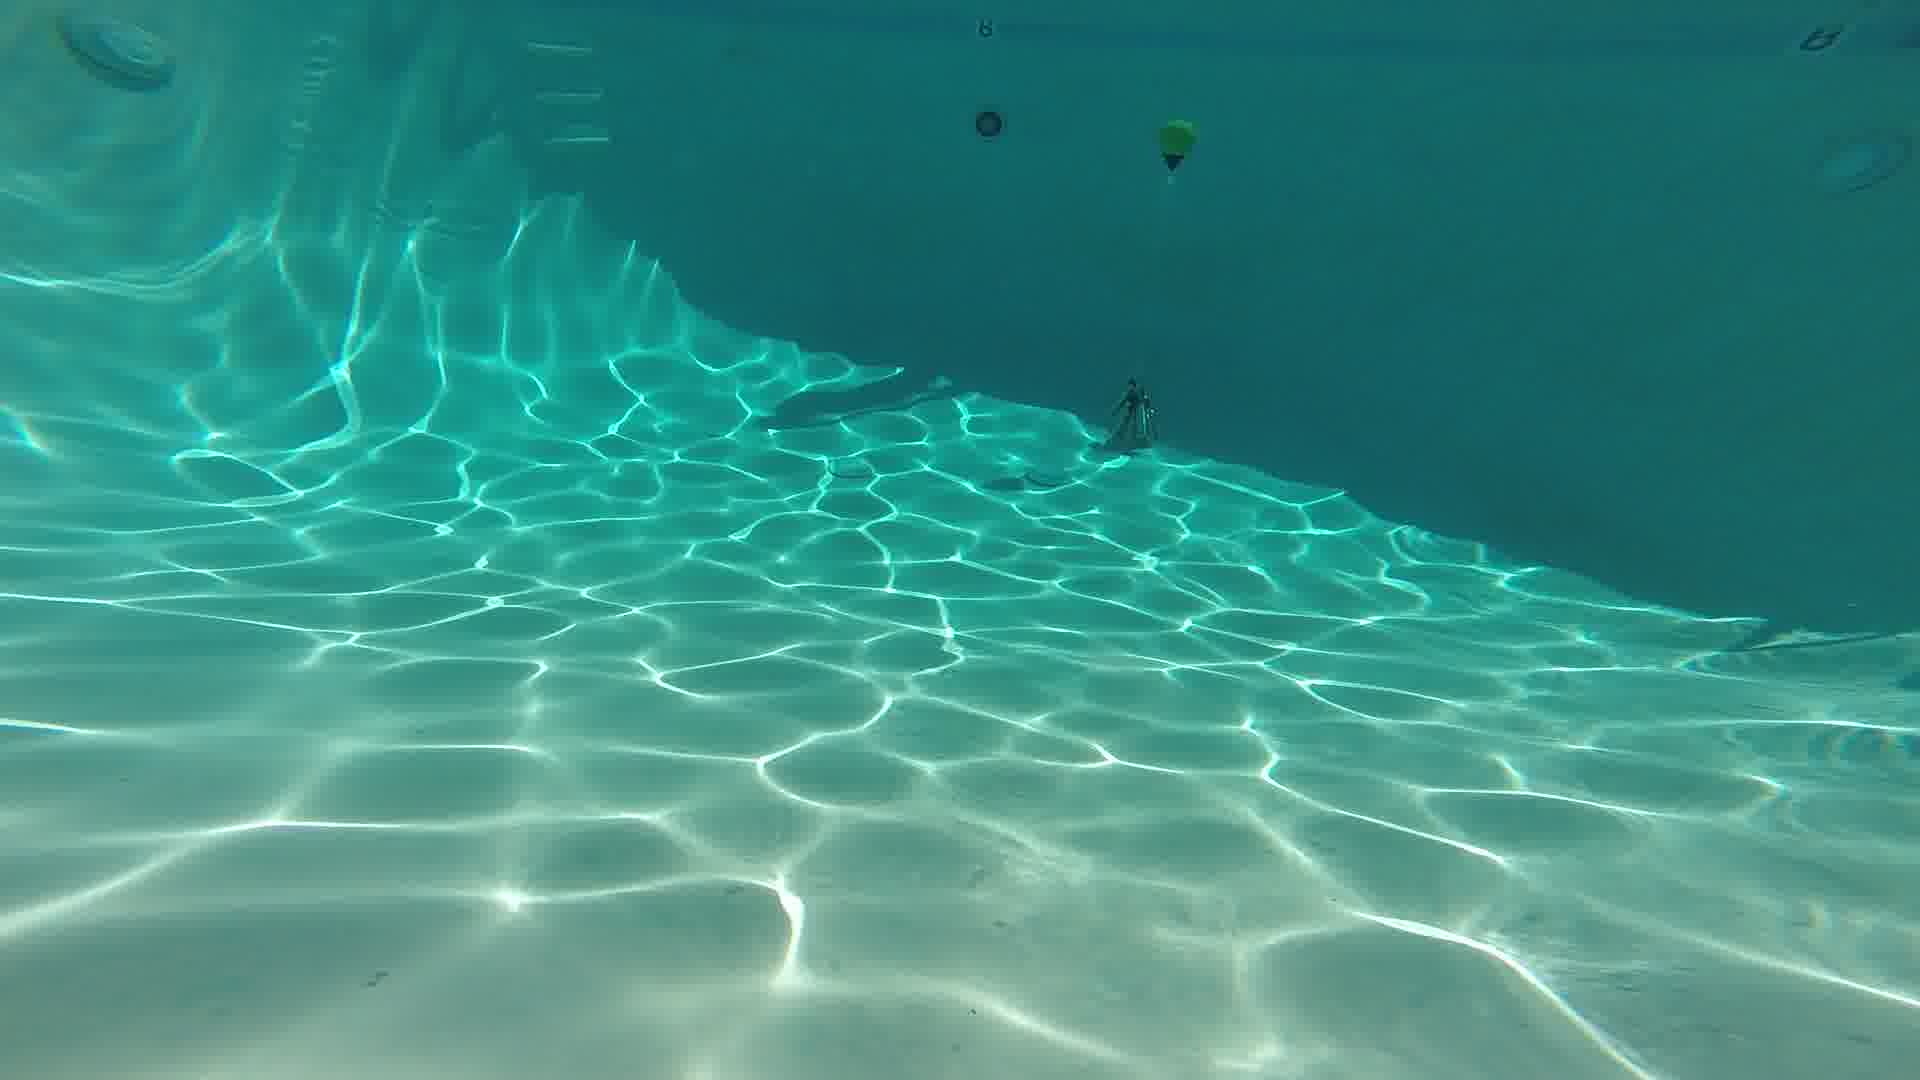yellow_buoy: (1160, 117, 1195, 171)
